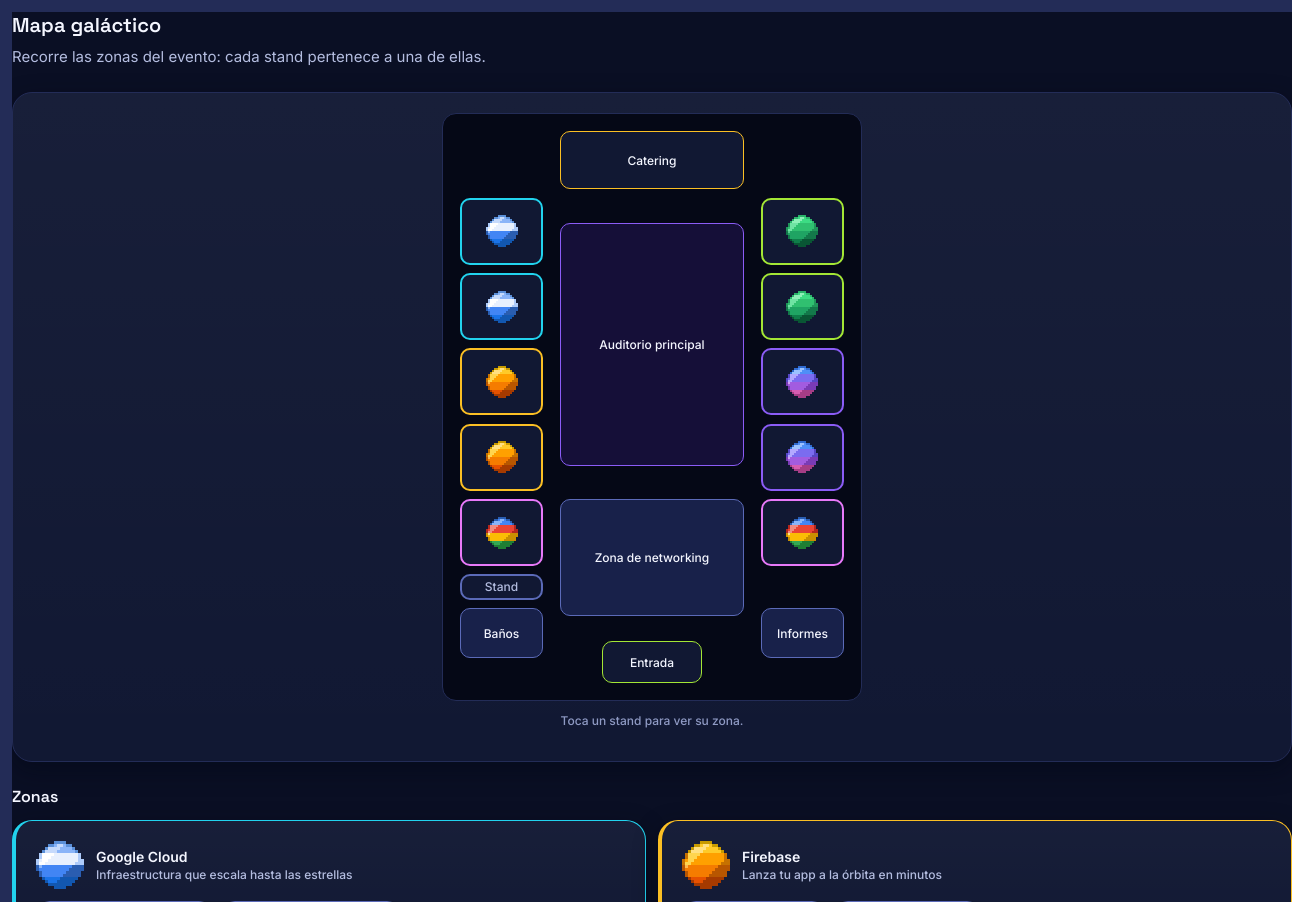
it: VenueMapView › names a stand without an active quadrant as a plain stand
Click the button with aria-label "Stand libre" at (502, 587), box [460,574,543,600]
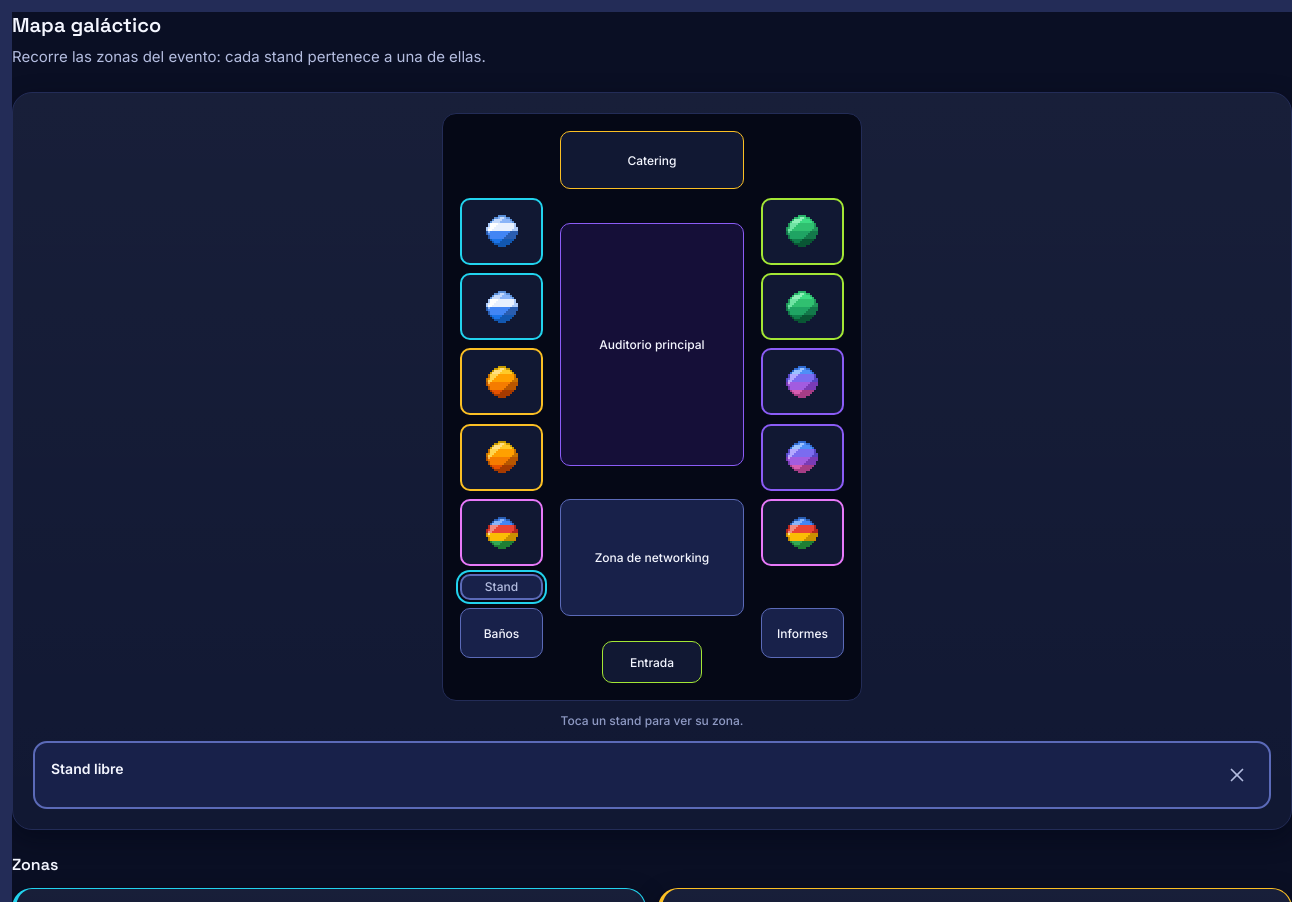
Expected: the text "Stand libre" is shown, [51,760,124,777]
